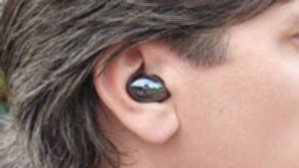earphone: (92, 37, 179, 145)
